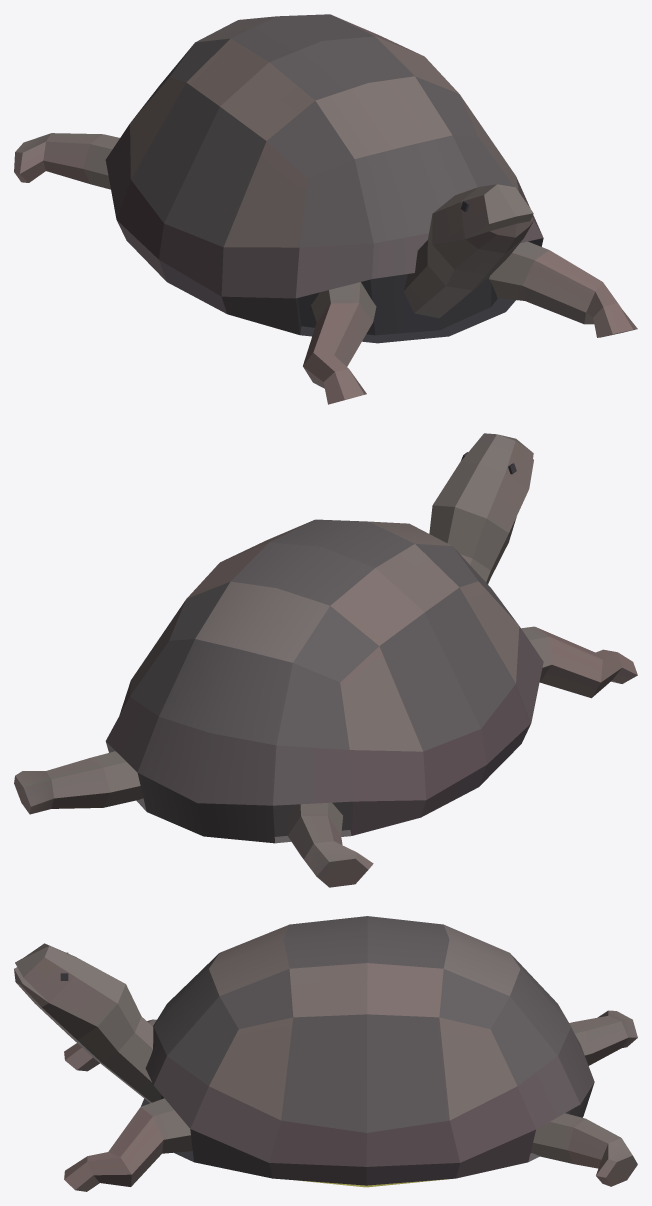
The model's file is animals-turtle-201.glb.
The picture shows the model from 3 angles, top to bottom: view 1: azimuth 30°, elevation 25°; view 2: azimuth 150°, elevation 25°; view 3: azimuth 270°, elevation 25°; orthographic projection. The views are drawn at different scales.
Parts seen in each view (by area): view 1: Geo_Turtle; view 2: Geo_Turtle; view 3: Geo_Turtle.
Part boxes in pixels (x1,y1,x2,y2): Geo_Turtle: (14, 14, 637, 404); Geo_Turtle: (14, 433, 637, 887); Geo_Turtle: (14, 916, 637, 1191).
Bounding box in the file's own units: 32.02 × 19.67 × 53.67.
1 material, 1 textured.
